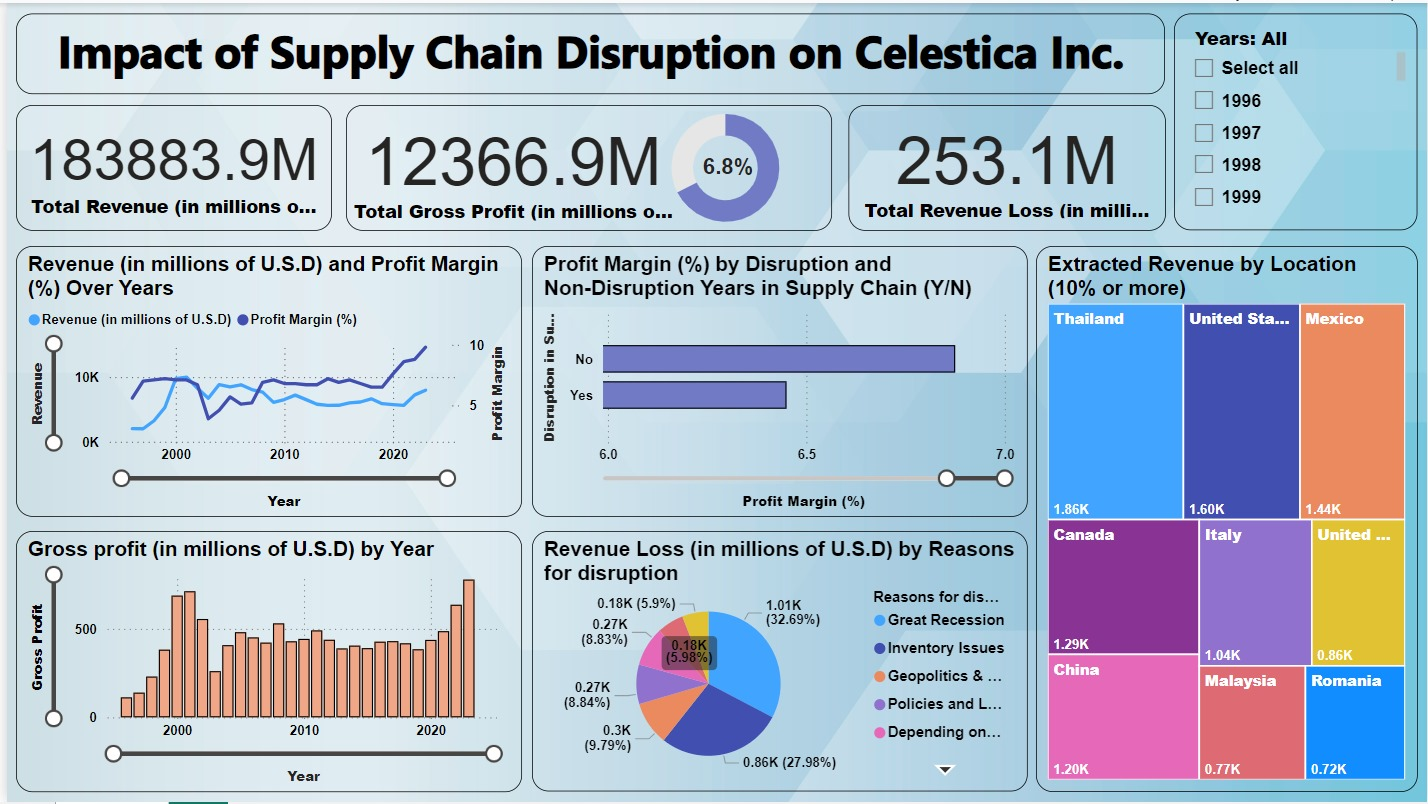

This screenshot's page, from the dashboard's own definition file:
{"tool":"powerbi","page":{"name":"Page 1","canvas":[1280,720],"ordinal":0},"visuals":[{"type":"textbox","box":[305.2,91.7,437.9,113.4],"z":0},{"type":"donutChart","fields":{"Y":["Avg(Dataset 1.Profit Margin (%) )","Avg(Dataset 1.Profit Margin of the previous year)"]},"box":[536.9,82,220.8,131.5],"z":1000},{"type":"card","fields":{"Values":["Dataset 1.MarginProfit"]},"box":[605.6,109.8,84.5,77.2],"z":2000},{"type":"lineChart","title":"Revenue (in millions of U.S.D) and Profit Margin (%) Over Years","fields":{"Category":["Dataset 1.Year"],"Y2":["Sum(Dataset 1.Profit Margin (%) )"],"Y":["Sum(Dataset 1.Revenue (in millions of U.S. dollars))"]},"box":[8.4,218.4,456,243.7],"z":3000},{"type":"barChart","title":"Average of Profit Margin (%)  by Disruption and Non-Disruption Years in Supply Chain (Y/N)","fields":{"Category":["Dataset 1.Disruption in Supply Chain (Y/N)"],"Y":["Avg(Dataset 1.Profit Margin (%) )"]},"box":[472.9,218.4,446.4,243.7],"z":4000},{"type":"columnChart","fields":{"Category":["Dataset 1.Year"],"Y":["Sum(Dataset 1.Gross profit (in millions of U.S. dollars))"]},"box":[8.4,475.3,456,235.3],"z":5000},{"type":"pieChart","fields":{"Category":["Dataset 1.Reasons for disruption"],"Y":["Sum(Dataset 1.Celestica’s Revenue Loss (in millions of U.S. dollars))"],"Series":["Dataset 1.Disruption in Supply Chain (Y/N)"]},"box":[472.9,475.3,446.4,235.3],"z":6000},{"type":"treemap","title":"Sum of Extracted Revenue by Location (10% or more)","fields":{"Values":["Sum(Dataset 2.Extracted Revenue)"],"Group":["Dataset 2.Location"]},"box":[927.8,218.4,343.8,492.2],"z":7000},{"type":"slicer","fields":{"Values":["Dataset 1.Year"]},"box":[1052,9.7,219.6,195.4],"z":8000},{"type":"textbox","title":"Impact of Supply Chain Disruption on Celestica Inc.","box":[8.4,9.7,1035.1,72.4],"z":9000},{"type":"card","fields":{"Values":["Dataset 1.Formatting Currency Sign"]},"box":[8.4,91.7,284.7,113.4],"z":10000},{"type":"card","fields":{"Values":["Dataset 1.RevenueLoss"]},"box":[757.6,91.7,285.9,113.4],"z":11000},{"type":"card","fields":{"Values":["Dataset 1.GrossProfit"]},"box":[305.2,95.3,300.4,105],"z":12000}]}

Visuals, with their boxes in screenshot pixels (x1, y1, x2, y2), scaled from the page's 1280x720 canvas onto the 1428x804 screenshot:
textbox: detection(340, 102, 829, 229)
donutChart - Avg(Dataset 1.Profit Margin (%) ) x Avg(Dataset 1.Profit Margin of the previous year): detection(599, 92, 845, 238)
card - Dataset 1.MarginProfit: detection(676, 123, 770, 209)
"Revenue (in millions of U.S.D) and Profit Margin (%) Over Years" lineChart: detection(9, 244, 518, 516)
"Average of Profit Margin (%)  by Disruption and Non-Disruption Years in Supply Chain (Y/N)" barChart: detection(528, 244, 1026, 516)
columnChart - Dataset 1.Year x Sum(Dataset 1.Gross profit (in millions of U.S. dollars)): detection(9, 531, 518, 794)
pieChart - Dataset 1.Reasons for disruption x Sum(Dataset 1.Celestica’s Revenue Loss (in millions of U.S. dollars)): detection(528, 531, 1026, 794)
"Sum of Extracted Revenue by Location (10% or more)" treemap: detection(1035, 244, 1419, 794)
slicer - Dataset 1.Year: detection(1174, 11, 1419, 229)
"Impact of Supply Chain Disruption on Celestica Inc." textbox: detection(9, 11, 1164, 92)
card - Dataset 1.Formatting Currency Sign: detection(9, 102, 327, 229)
card - Dataset 1.RevenueLoss: detection(845, 102, 1164, 229)
card - Dataset 1.GrossProfit: detection(340, 106, 676, 224)
